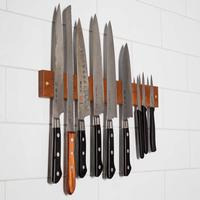knife: (38, 5, 161, 182), (73, 12, 170, 193), (45, 1, 66, 183)
